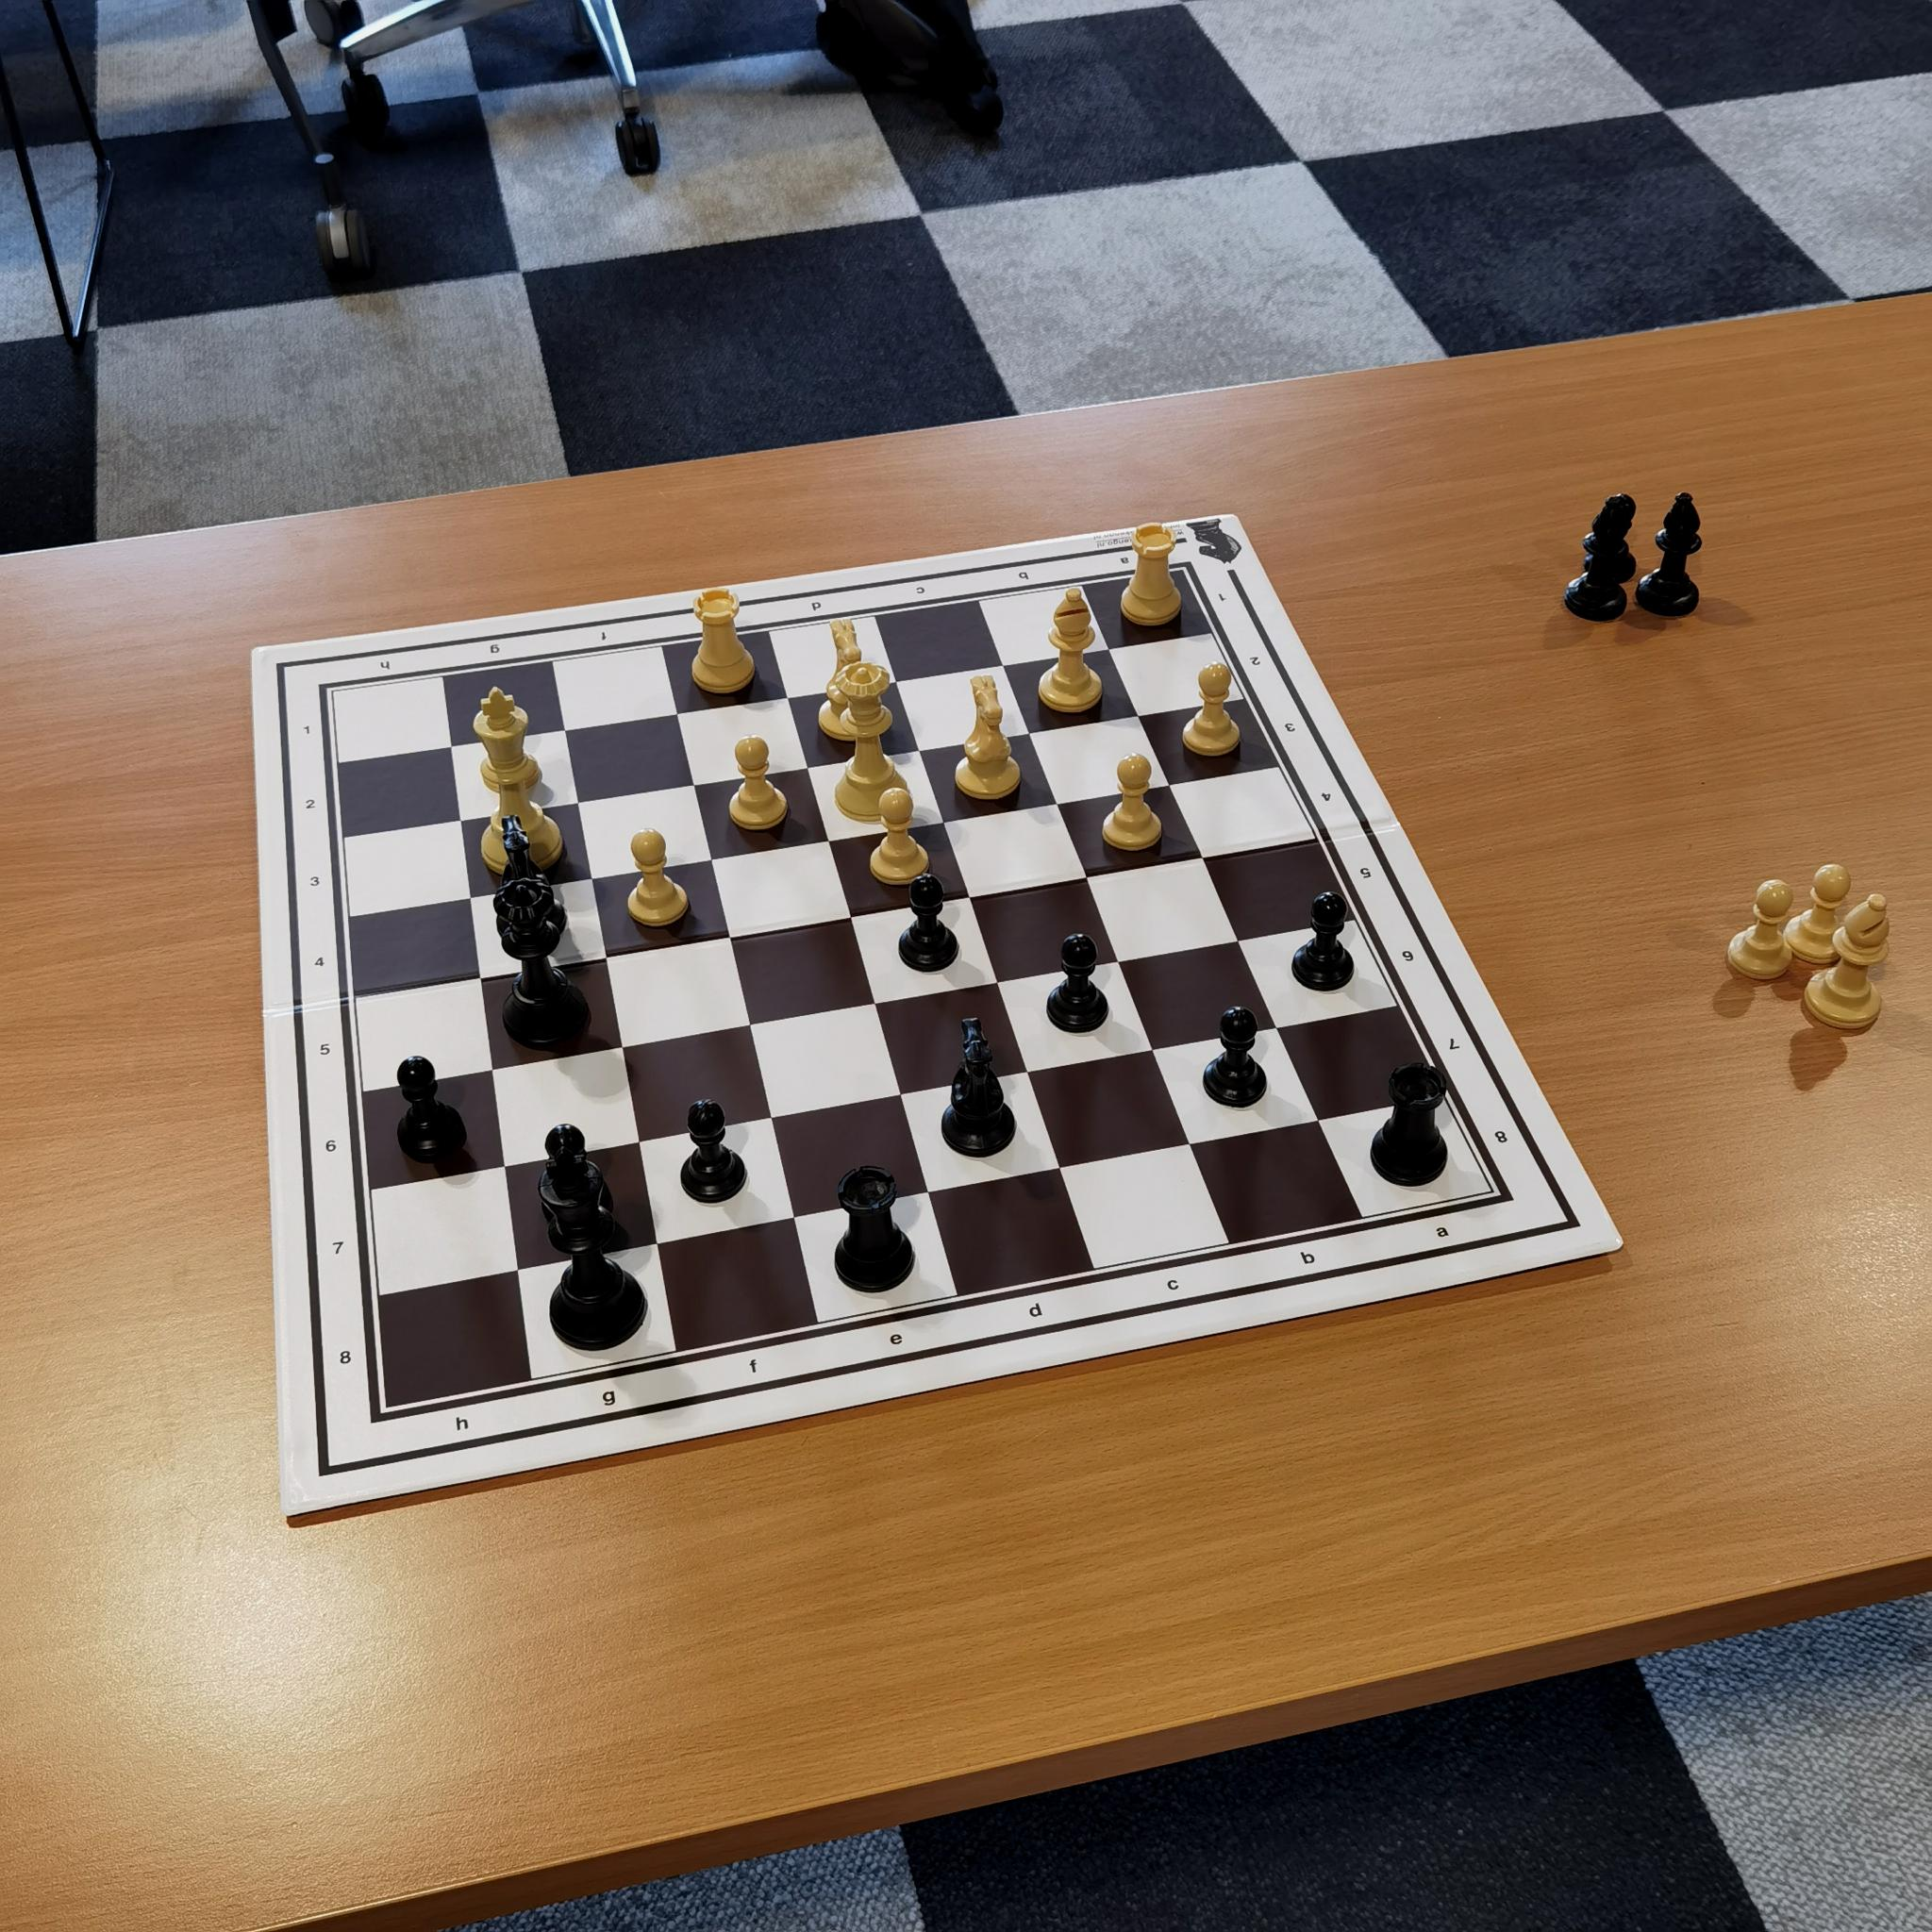corners: (1477, 1182, 1527, 1224), (354, 1396, 400, 1438), (313, 672, 352, 708), (1166, 550, 1201, 589)
eight: (1488, 1108, 1523, 1159), (329, 1334, 366, 1380)
one: (1210, 577, 1244, 617), (290, 709, 320, 745)
